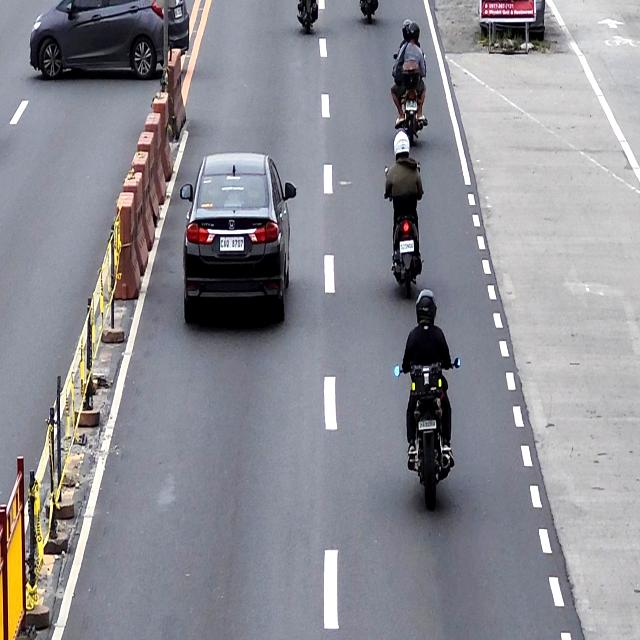Car: (183, 147, 291, 332)
License-Plate: (218, 236, 246, 255), (399, 236, 414, 254)
Motorcycle: (411, 286, 450, 511), (392, 131, 424, 293), (393, 22, 428, 141)
